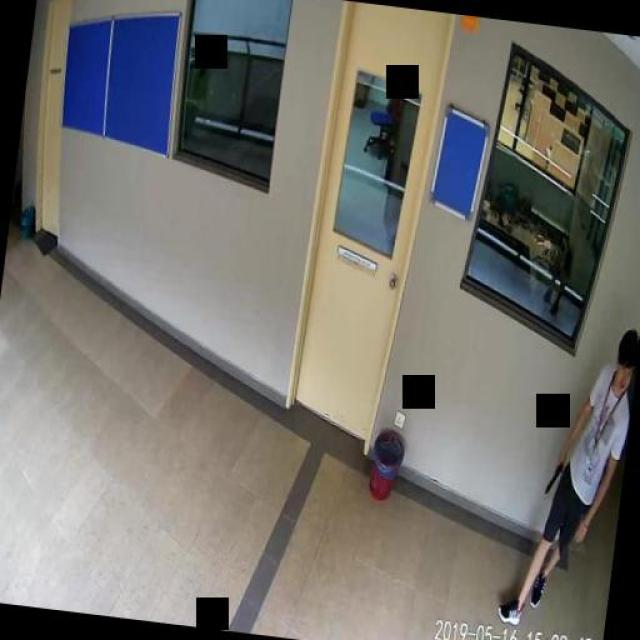gun: (542, 448, 568, 498)
